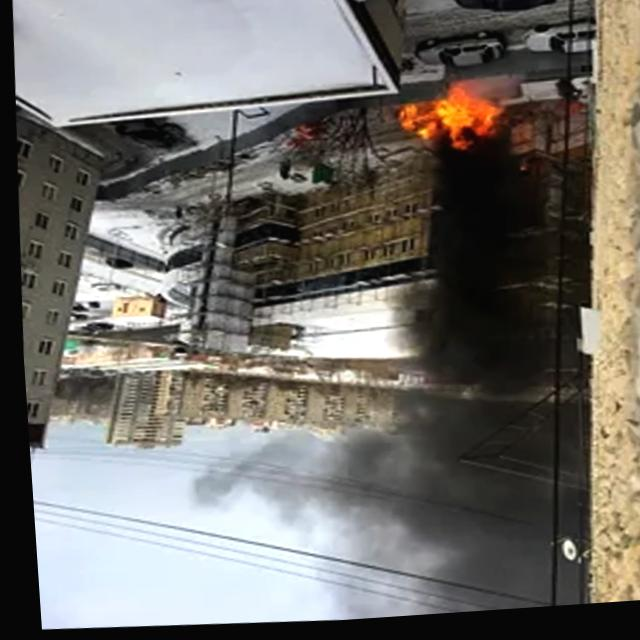no_helmet: (380, 132, 571, 621)
